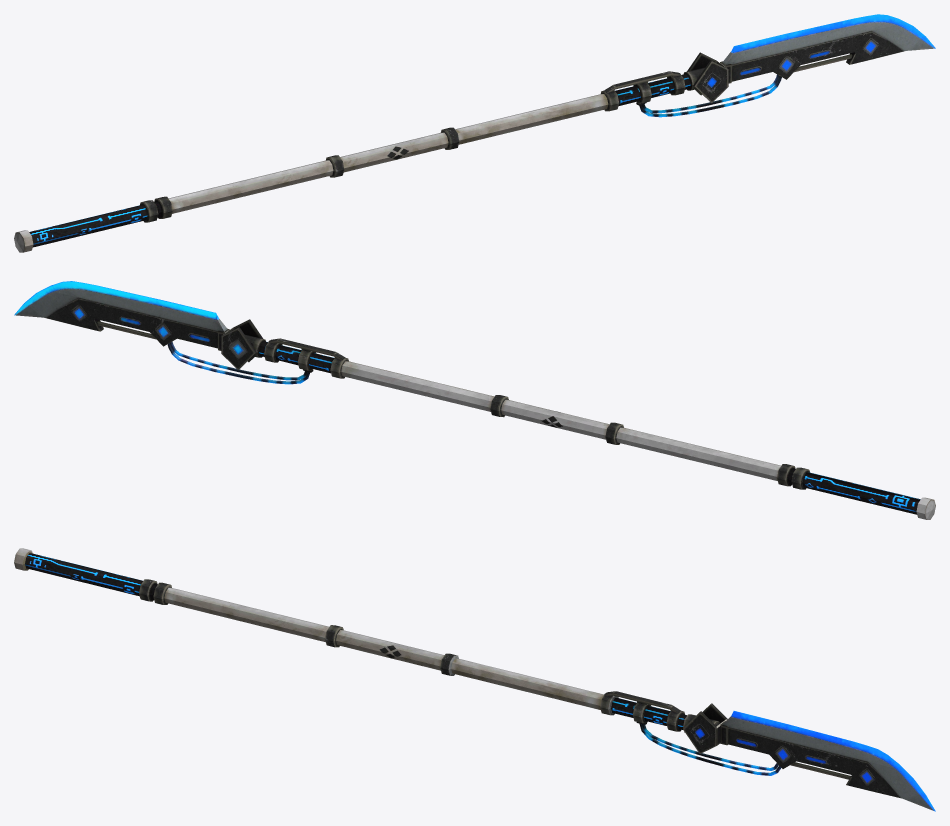
Rendered from nagitana_spear.glb.
3 views of the same model, one above another, from view 1: azimuth 30°, elevation 25°; view 2: azimuth 150°, elevation 25°; view 3: azimuth 330°, elevation 25° (orthographic).
Visible parts, largest first — view 1: Naginata; view 2: Naginata; view 3: Naginata.
Boxes of the visible parts, left/top/right/bottom form: Naginata: left=14, top=14, right=935, bottom=252; Naginata: left=14, top=281, right=935, bottom=519; Naginata: left=14, top=548, right=935, bottom=811.
Bounding box in the file's own units: 258 × 15.9 × 5.8.
1 material, 1 textured.
